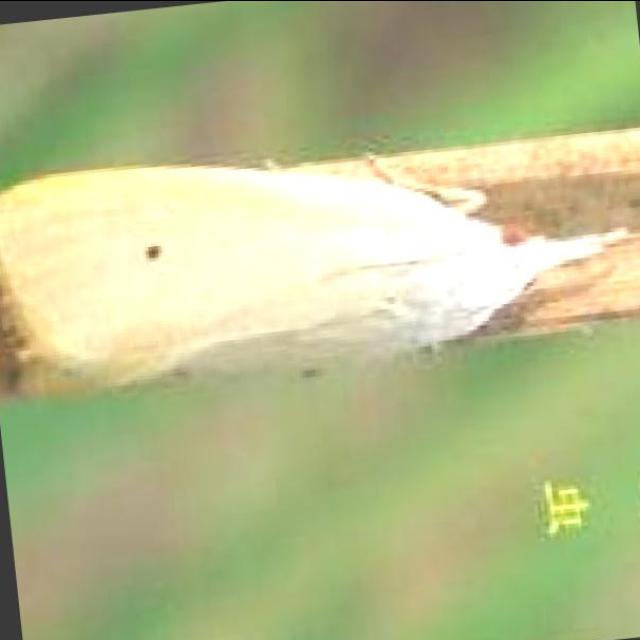stem borer: (0, 155, 627, 392)
